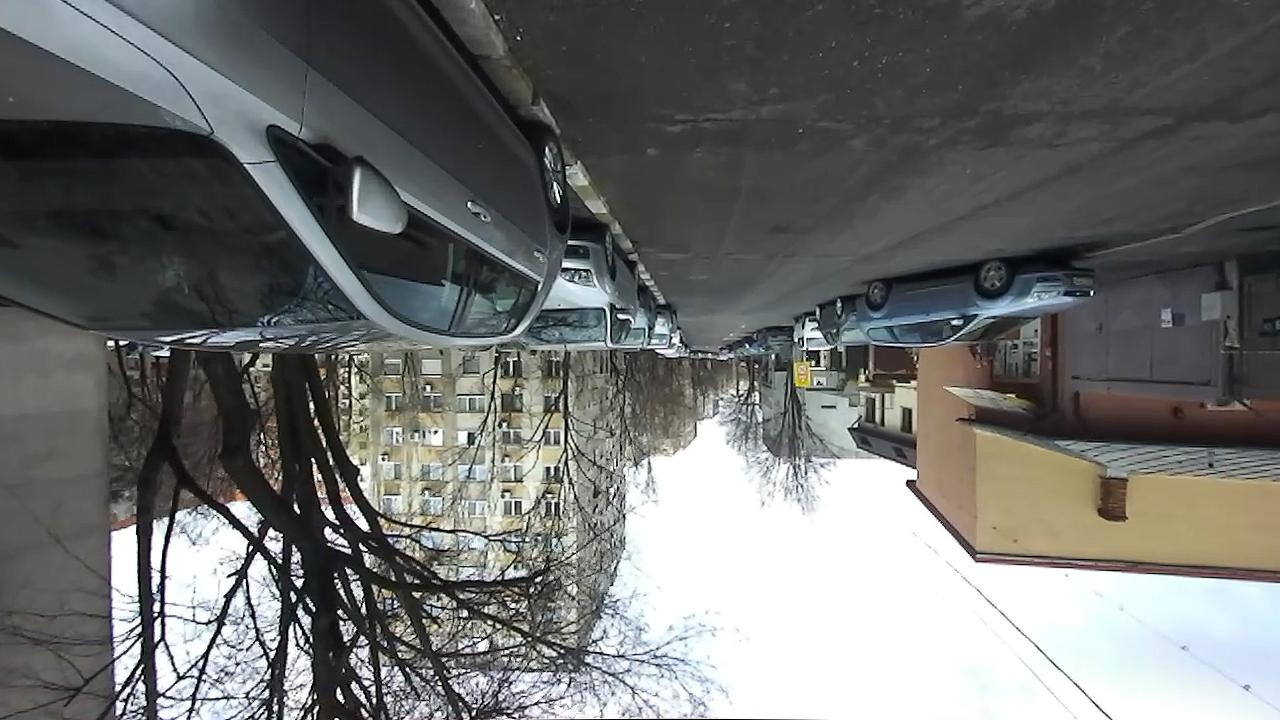pothole: (659, 106, 768, 141)
